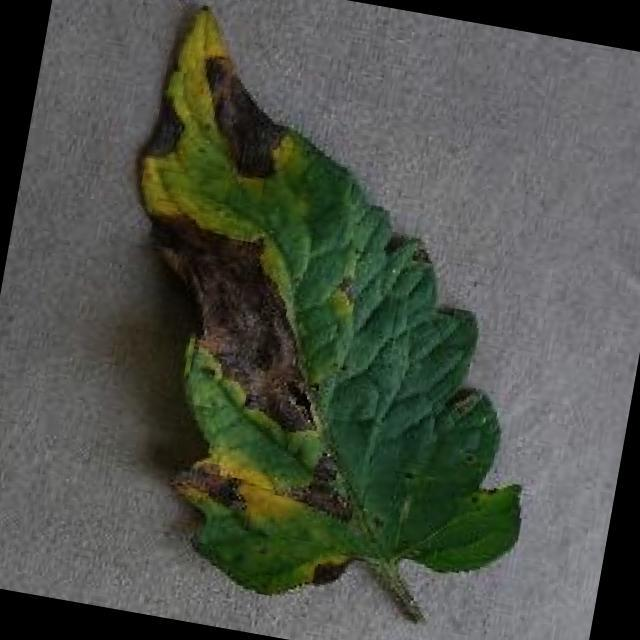Tomato Early blight leaf: (61, 0, 595, 640)
